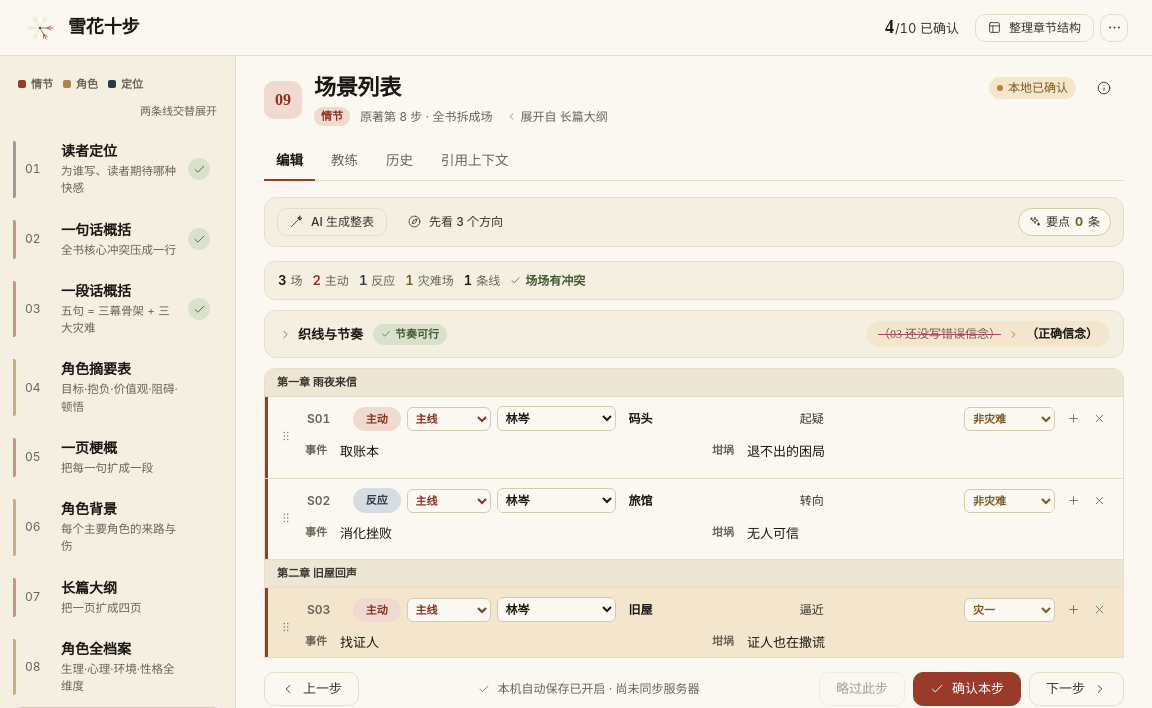
Test: 阶段 M · 09/10 交互 › 09 场景表：同一章的第一场前有只读章头；「在这一场后面插一场」插在原位之后并继承线 / POV / 地点；拖放换位走同一纯函数
Check: the button with test id "snow-scene-chapter-0" reads "第一章 雨夜来信", box [265,369,1123,396]
Step 1. Click the button with test id "snow-scene-chapter-2" → (317, 573), box [265,559,1123,587]
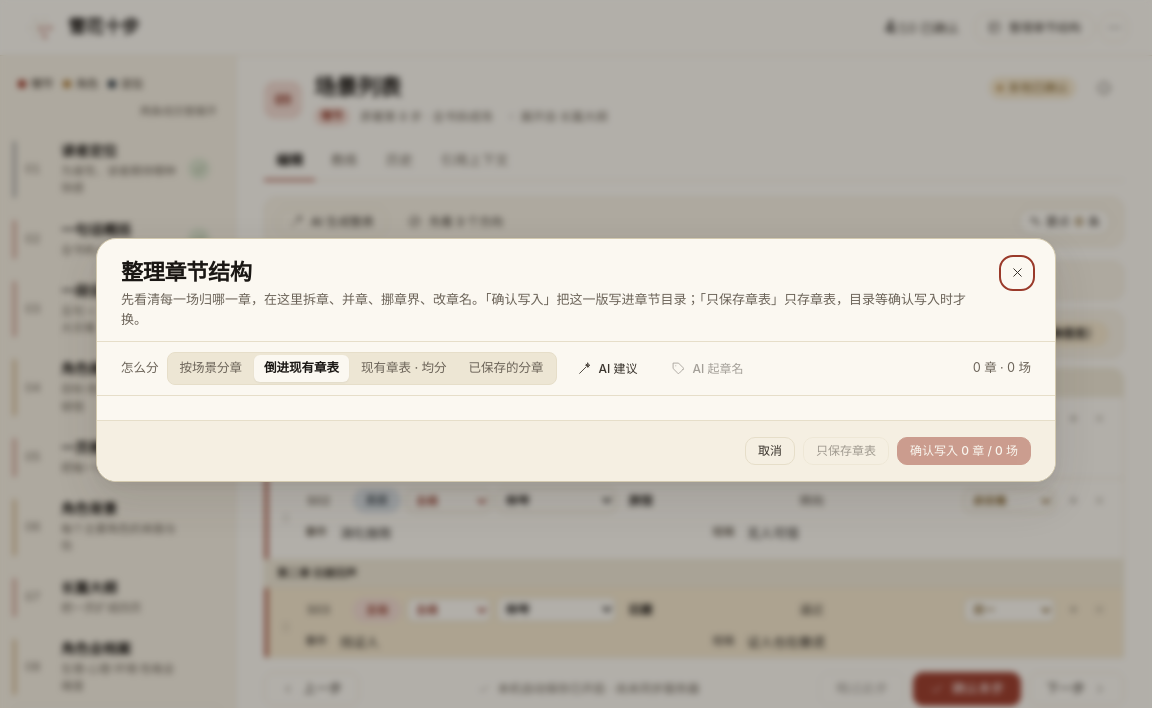
Check: the dialog with test id "chapter-plan-panel" is shown, box [96,238,1056,482]
Step 2. Click the button with class "wr-drawer-x" → (1017, 273), box [1003,259,1031,287]
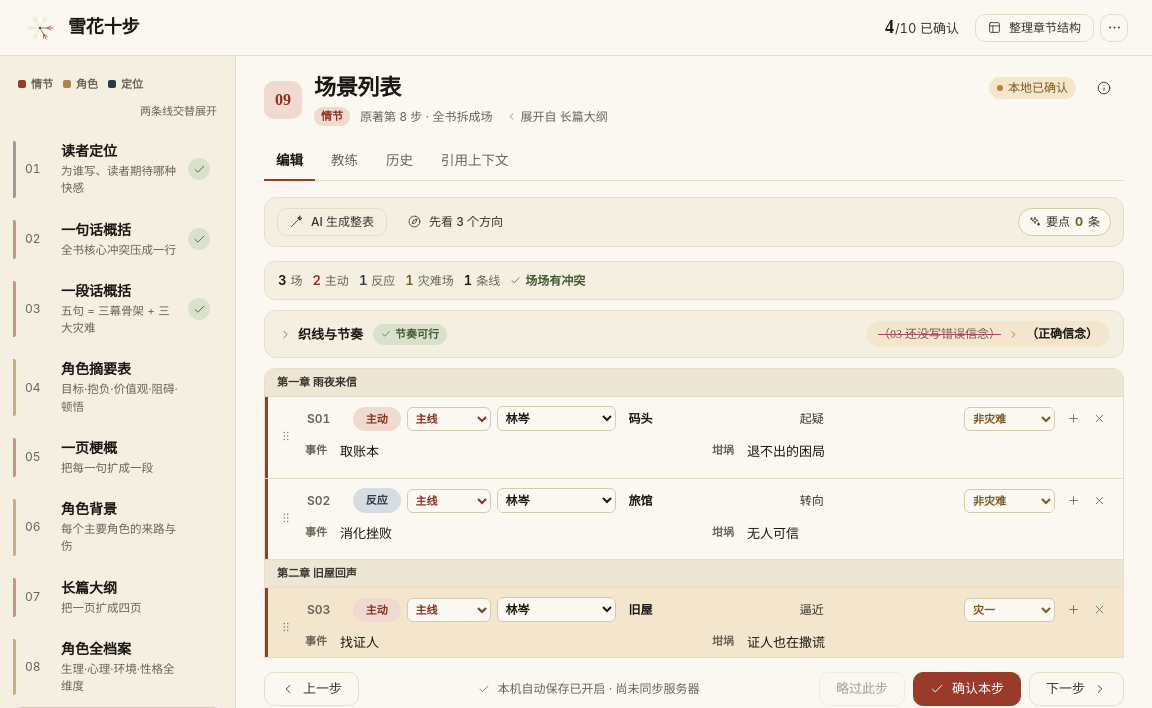
Check: the dialog with test id "chapter-plan-panel" is gone
Step 3. Click the button with test id "snow-scene-insert-0" → (1073, 419), box [1061,407,1085,431]
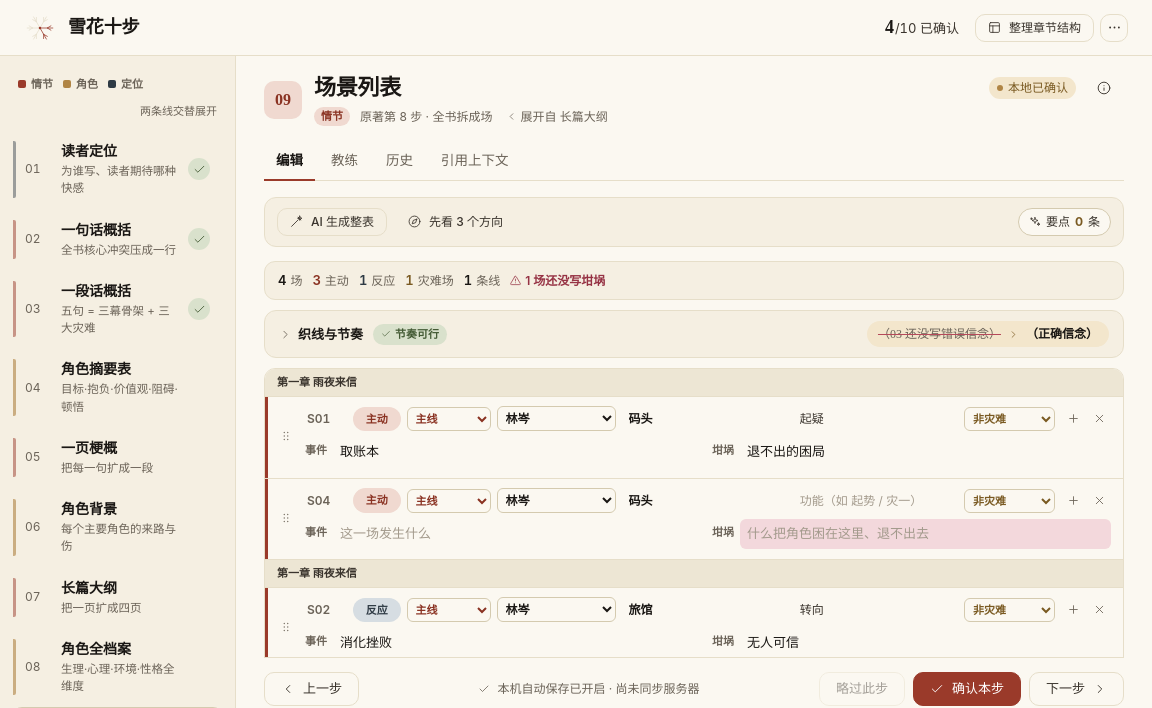
Check: the text "S01" is shown, box [307,411,330,426]
Check: the field named "S04 地点" holds "码头", box [622,486,787,514]
Check: the text box labelled "事件" below "S04" is empty, box [333,518,704,549]
